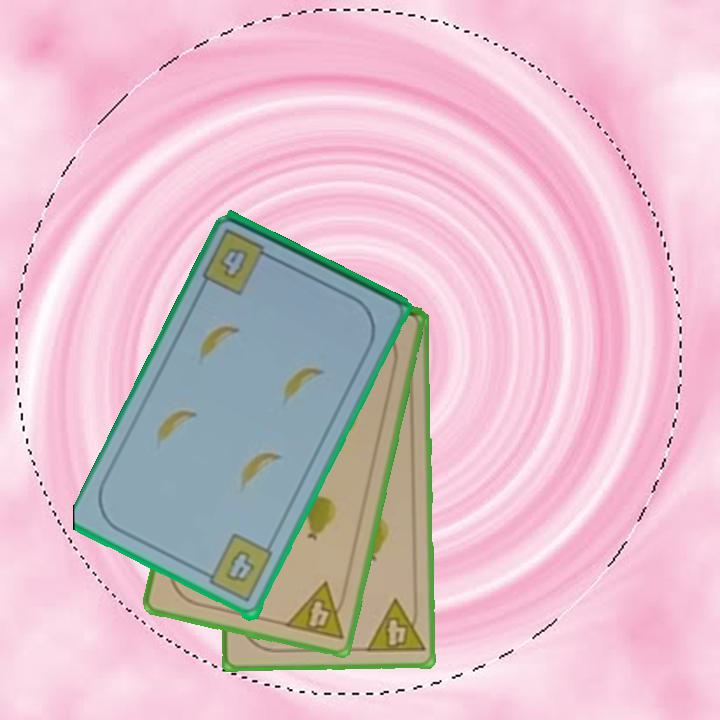4b: (197, 531, 276, 606), (199, 225, 280, 298)
4p: (281, 579, 351, 643), (362, 596, 427, 657)
